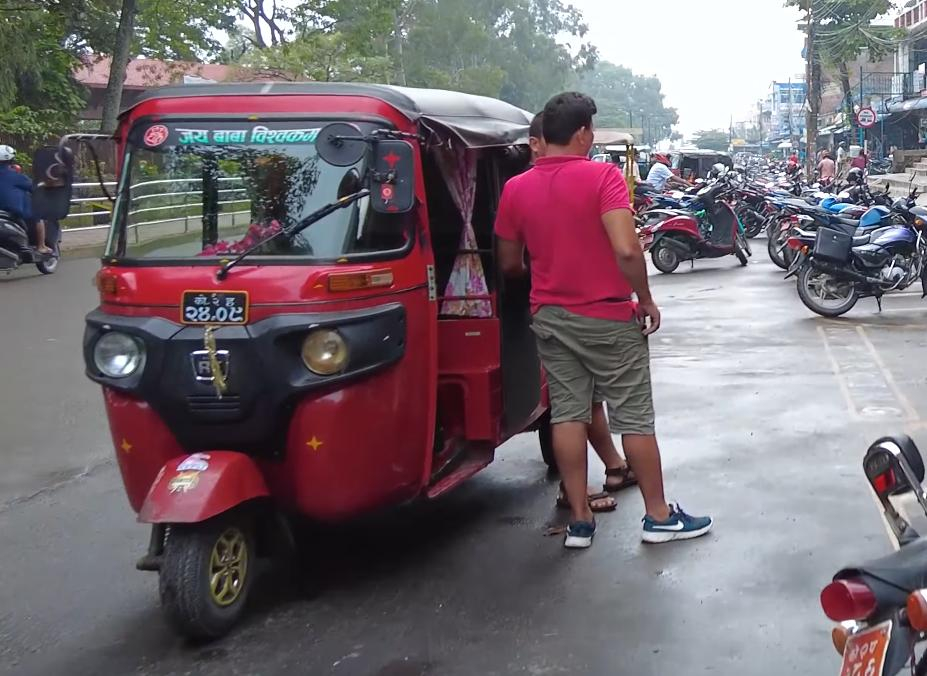auto_rickshaw: (28, 70, 585, 647)
bike: (813, 430, 927, 676), (784, 194, 927, 321)
scooter: (644, 175, 755, 278), (0, 192, 63, 281)
